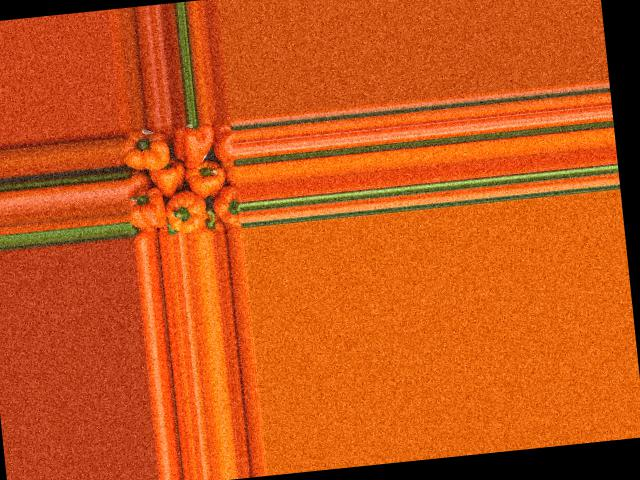bell_pepper: (211, 117, 234, 163)
